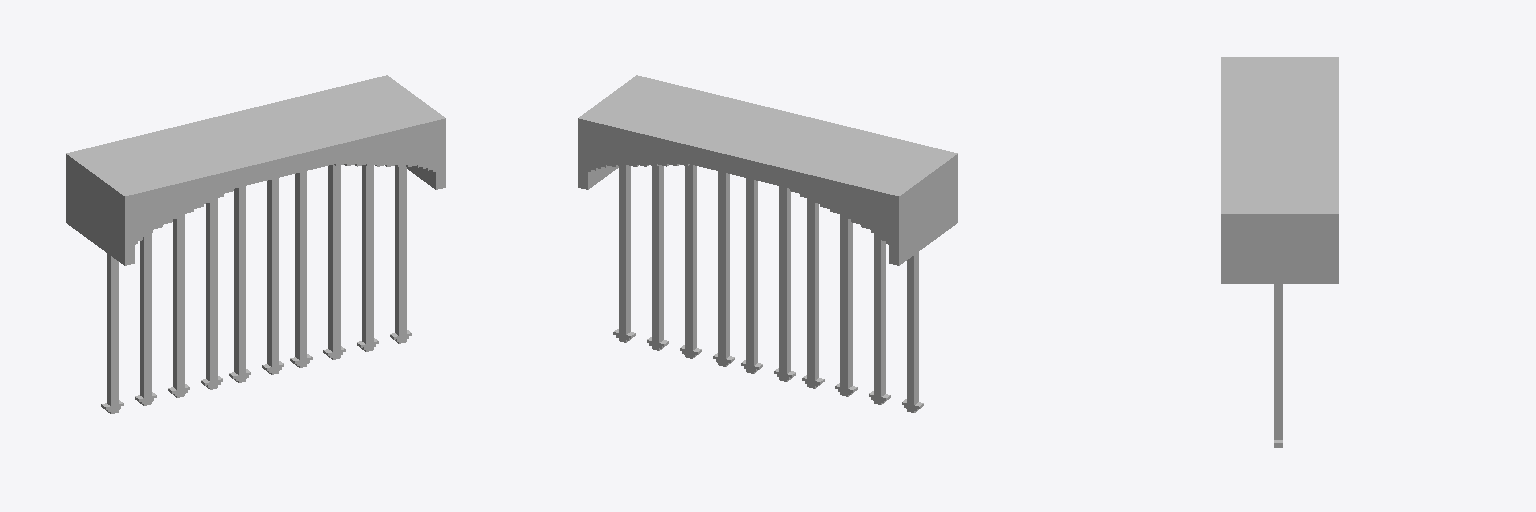
The model's file is Gate.obj.
3 views of the same model, side by side, from view 1: azimuth 30°, elevation 25°; view 2: azimuth 150°, elevation 25°; view 3: azimuth 270°, elevation 25° (orthographic).
Visible parts, largest first — view 1: Gate; view 2: Gate; view 3: Gate.
Part boxes in pixels (x1,y1,x2,y2): Gate: (66,75,445,413); Gate: (578,75,957,412); Gate: (1221,57,1338,447).
Size of the model in its own units: 126 by 90 by 40.